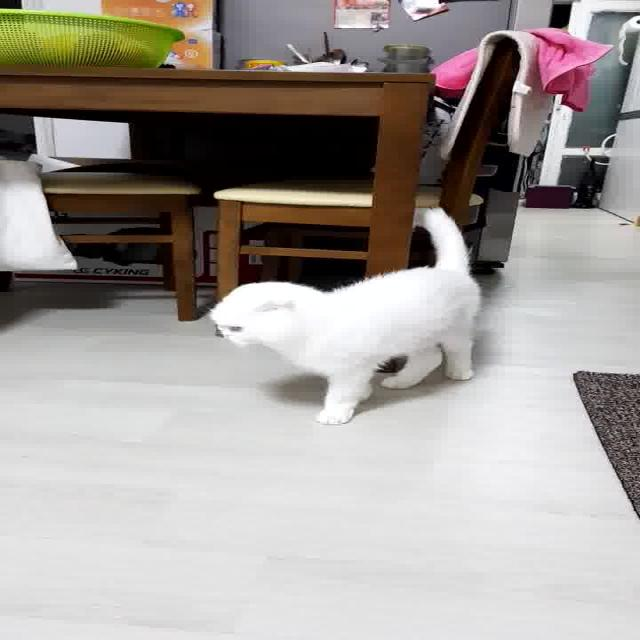cat: (206, 198, 502, 428)
